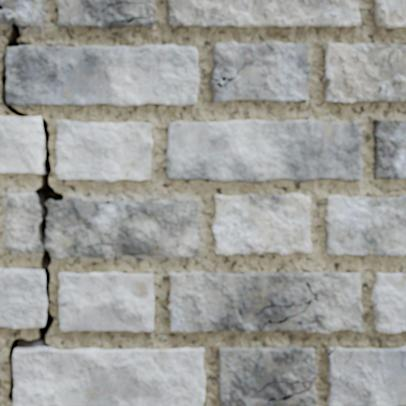brick: (166, 120, 361, 181), (169, 272, 361, 333), (6, 45, 198, 106), (13, 348, 204, 405), (213, 194, 310, 255), (210, 42, 310, 101), (56, 121, 152, 181), (219, 346, 316, 405), (59, 272, 153, 331), (166, 0, 359, 26), (325, 195, 405, 256), (324, 43, 405, 102), (327, 346, 405, 405), (56, 0, 153, 28), (0, 269, 46, 327), (0, 117, 42, 173), (372, 273, 405, 332), (373, 120, 405, 178), (375, 0, 405, 27), (113, 18, 153, 27)
broken_brick: (46, 196, 200, 258), (4, 190, 41, 252), (0, 0, 42, 26)
crack: (0, 2, 63, 403), (258, 376, 316, 404), (210, 61, 246, 90), (100, 0, 153, 12), (109, 14, 152, 28), (344, 349, 353, 366), (327, 347, 335, 355), (0, 0, 4, 10), (102, 201, 110, 204)
